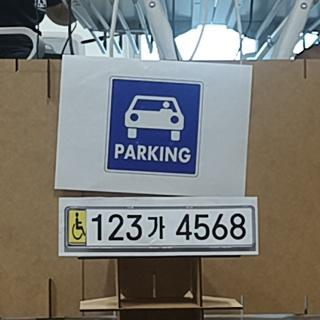disabled: (69, 212, 87, 245)
plate: (64, 206, 255, 250)
